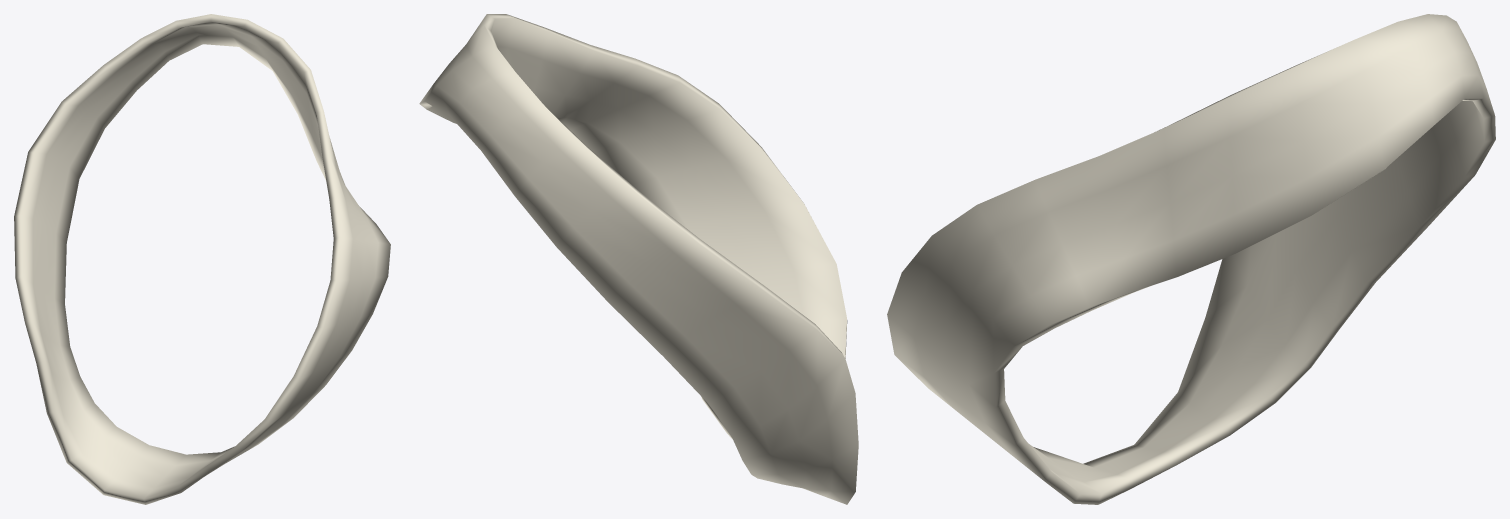
The picture shows the model from 3 angles, left to right: view 1: azimuth 30°, elevation 25°; view 2: azimuth 150°, elevation 25°; view 3: azimuth 270°, elevation 25°; orthographic projection. The views are drawn at different scales.
Visible parts, largest first — view 1: ZA_475b3e1ed1bf32b8; view 2: ZA_475b3e1ed1bf32b8; view 3: ZA_475b3e1ed1bf32b8.
Boxes of the visible parts, left/top/right/bottom form: ZA_475b3e1ed1bf32b8: left=14, top=14, right=390, bottom=504; ZA_475b3e1ed1bf32b8: left=419, top=14, right=858, bottom=504; ZA_475b3e1ed1bf32b8: left=887, top=14, right=1495, bottom=504.
Size of the model in its own units: 0.0224 by 0.027 by 0.0257.
